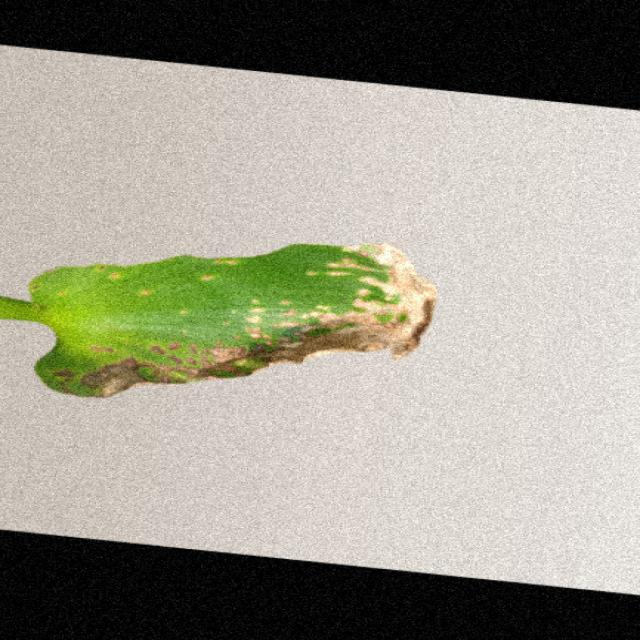daun berpenyakit bercak: (0, 244, 436, 397)
